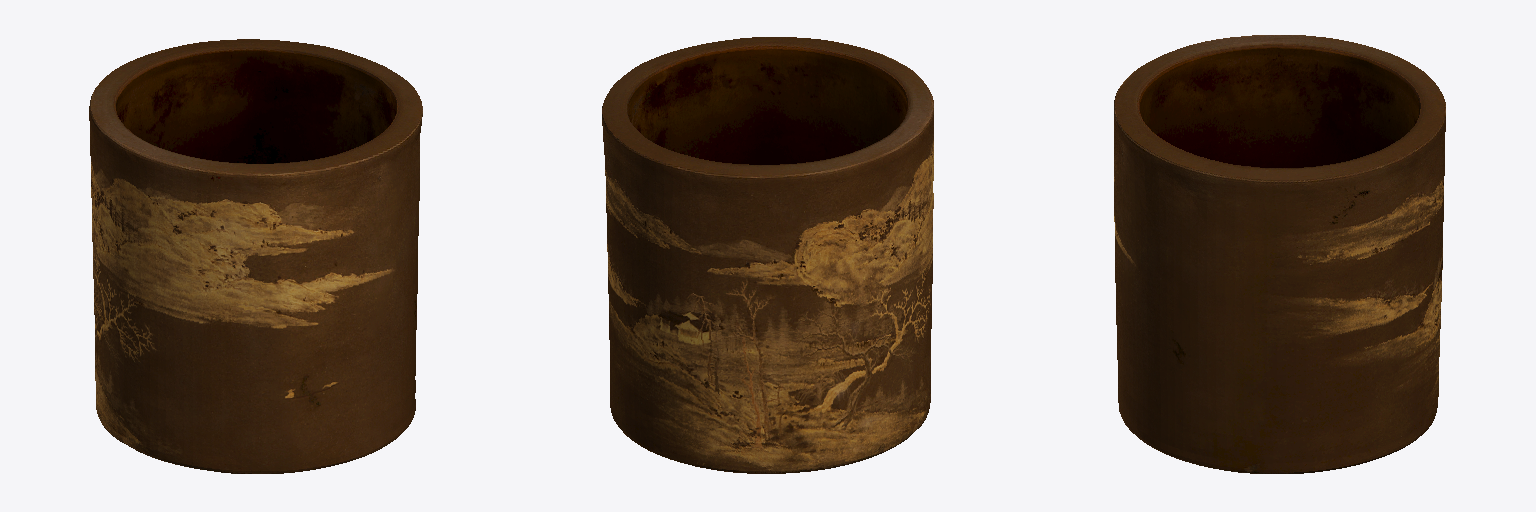
3 renders of one model, left to right at view 1: azimuth 30°, elevation 25°; view 2: azimuth 150°, elevation 25°; view 3: azimuth 270°, elevation 25°, orthographic.
Visible parts, largest first — view 1: SZB_lhf_128; view 2: SZB_lhf_128; view 3: SZB_lhf_128.
Part boxes in pixels (x1,y1,x2,y2): SZB_lhf_128: (89,39,422,473); SZB_lhf_128: (602,37,933,473); SZB_lhf_128: (1114,35,1445,473).
Size of the model in its own units: 154 by 156 by 154.
1 materials, 1 textured.